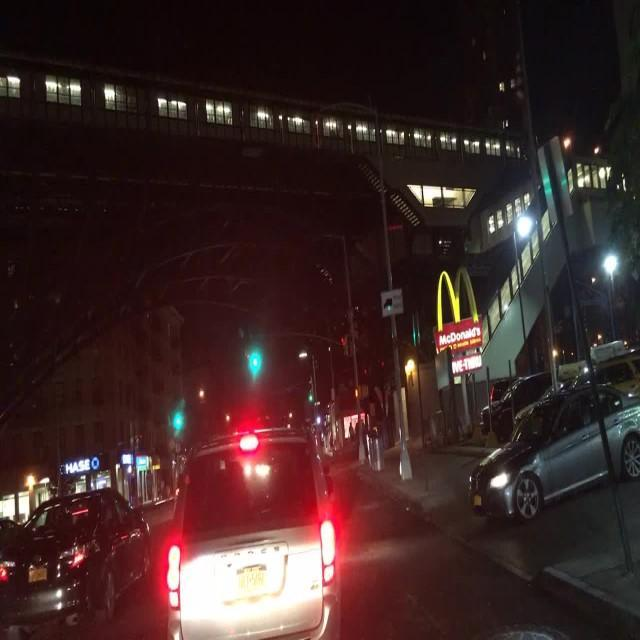normal: (147, 417, 360, 640), (468, 337, 640, 524)
